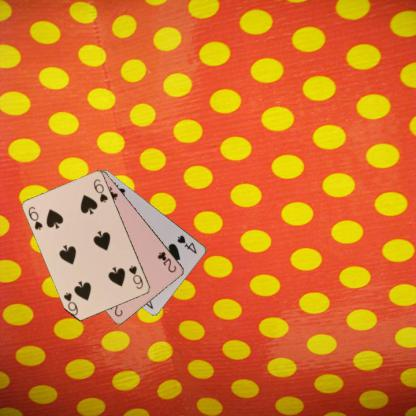2c: (155, 249, 178, 274)
4s: (175, 232, 198, 255)
6s: (126, 263, 144, 290), (26, 204, 44, 231)
